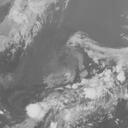cyclone: (24, 32, 127, 122)
